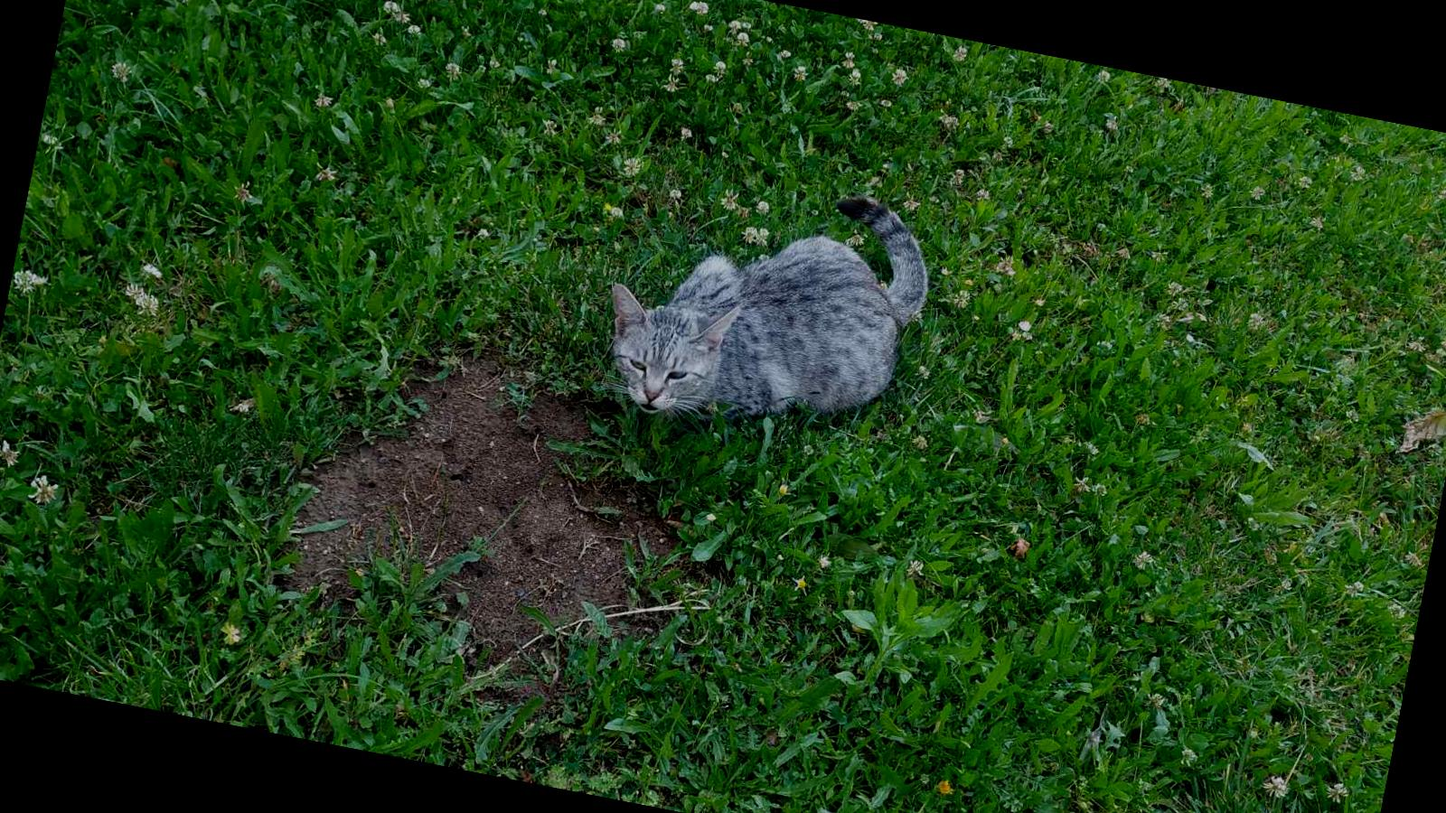macka: (588, 153, 943, 461)
